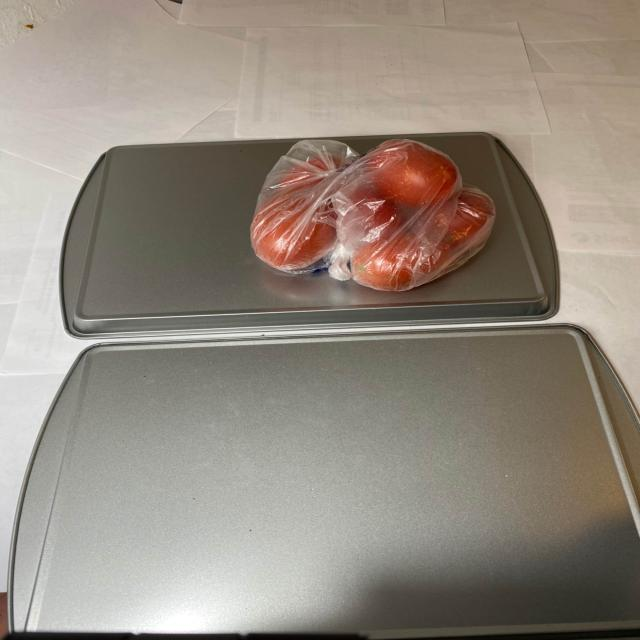tomato: (254, 143, 498, 290)
